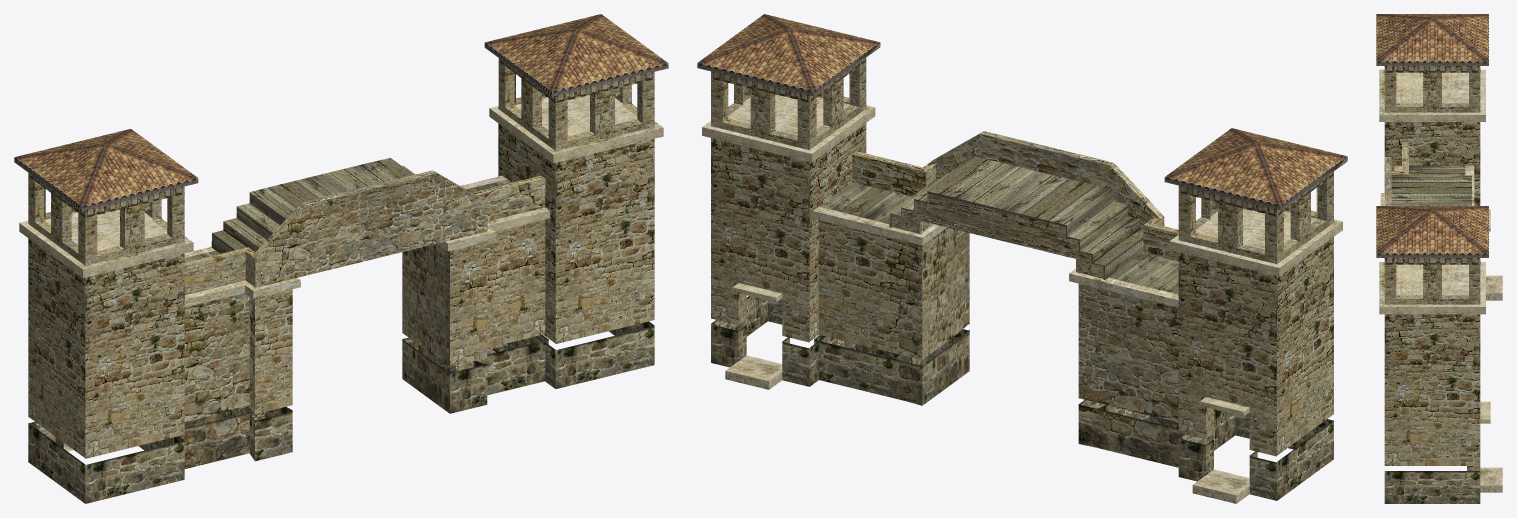
Rendered from hele_gate.dae.
3 renders of one model, left to right at view 1: azimuth 30°, elevation 25°; view 2: azimuth 150°, elevation 25°; view 3: azimuth 270°, elevation 25°, orthographic. The views are drawn at different scales.
Parts seen in each view (by area): view 1: Mesh_003; view 2: Mesh_003; view 3: Mesh_003.
Boxes of the visible parts, x1,y1,x2,y2 form: Mesh_003: (14,14,668,503); Mesh_003: (697,14,1347,503); Mesh_003: (1376,14,1502,503).
Size of the model in its own units: 37.37 by 19.91 by 8.33.
